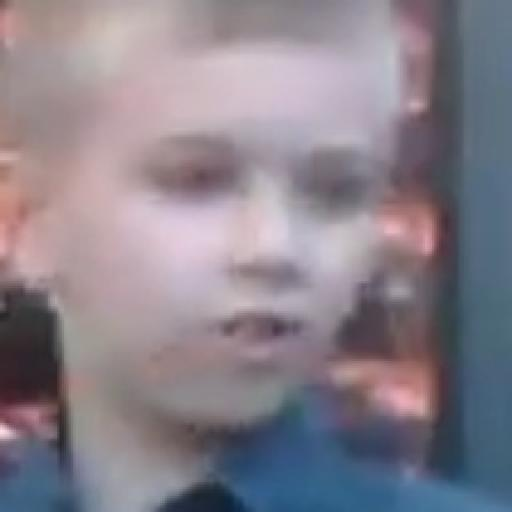Autism: (12, 43, 414, 422)
